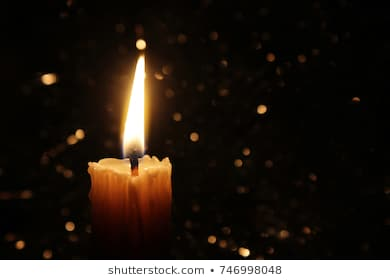Fire: (119, 53, 146, 157)
